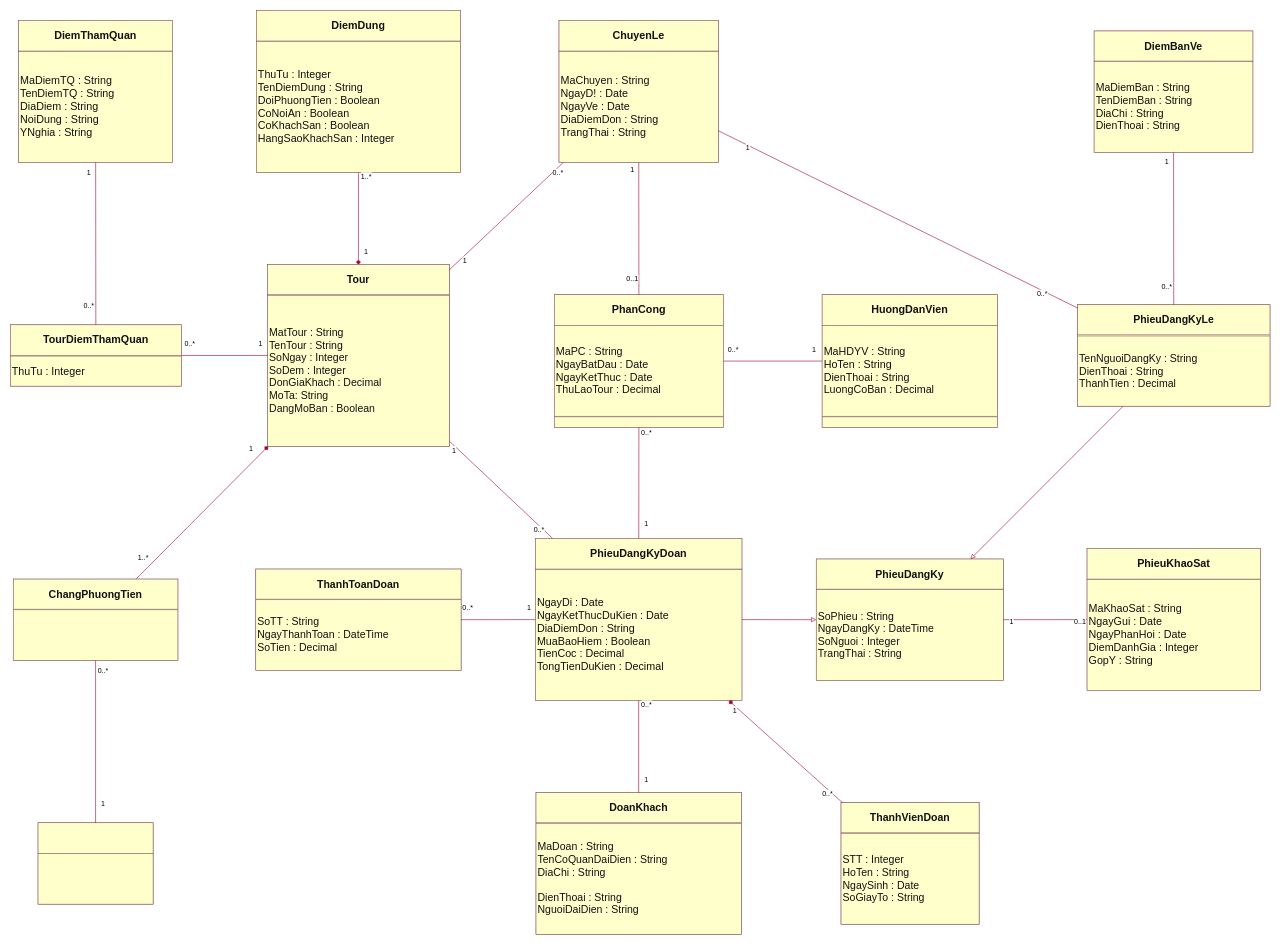
This 1280x945 diagram has some shape labels left out. The shapes that lost their labels are listed below. From the top down, each one's box as (x1, y1, x2, y2) in pixels, then its label:
(13, 609, 178, 661): ThuTuChang : Integer GhiChu : String
(37, 822, 153, 853): PhuongTien
(37, 853, 153, 904): MaPT : String TenPT : String
